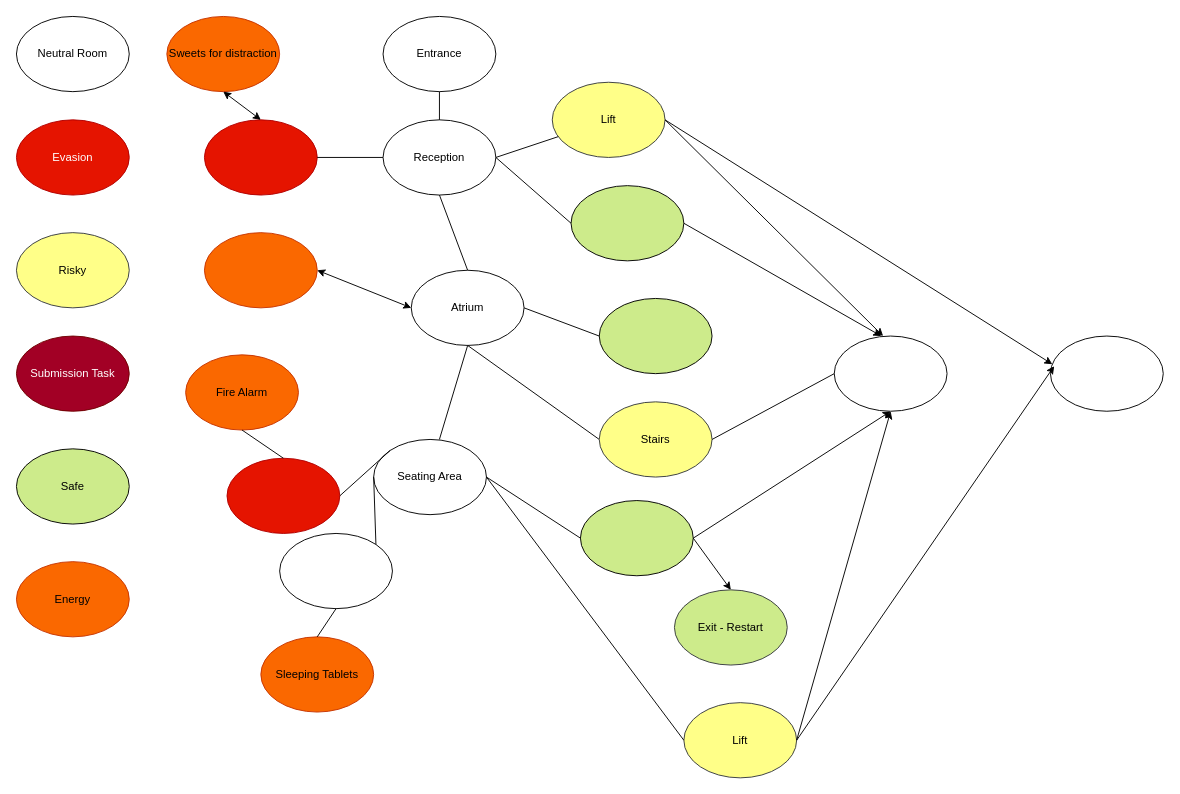
Some shapes in this 1180 by 794 pixel diagram are drawn without their labels. Each missing label, with the box of its shape:
Cafe: (204, 119, 317, 195)
East Stairs: (580, 500, 693, 576)
First Floor: (833, 335, 947, 411)
Lab: (226, 457, 340, 533)
Second Floor: (1050, 335, 1163, 411)
SU - Fruit: (204, 232, 317, 308)
Toilets: (598, 298, 712, 374)
Ward: (279, 533, 392, 609)
West Stairs: (570, 185, 684, 261)
